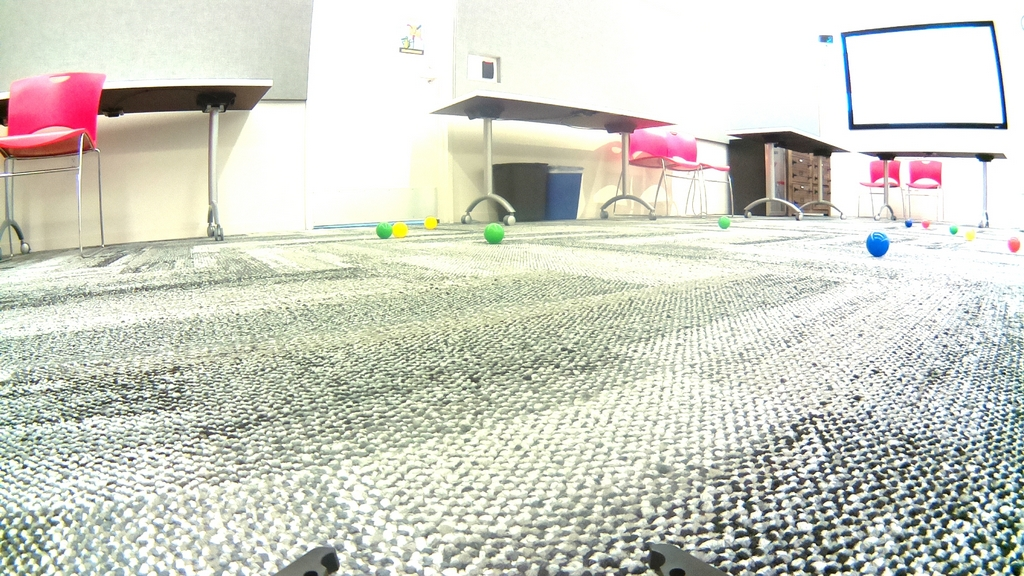ball: (377, 223, 392, 240)
